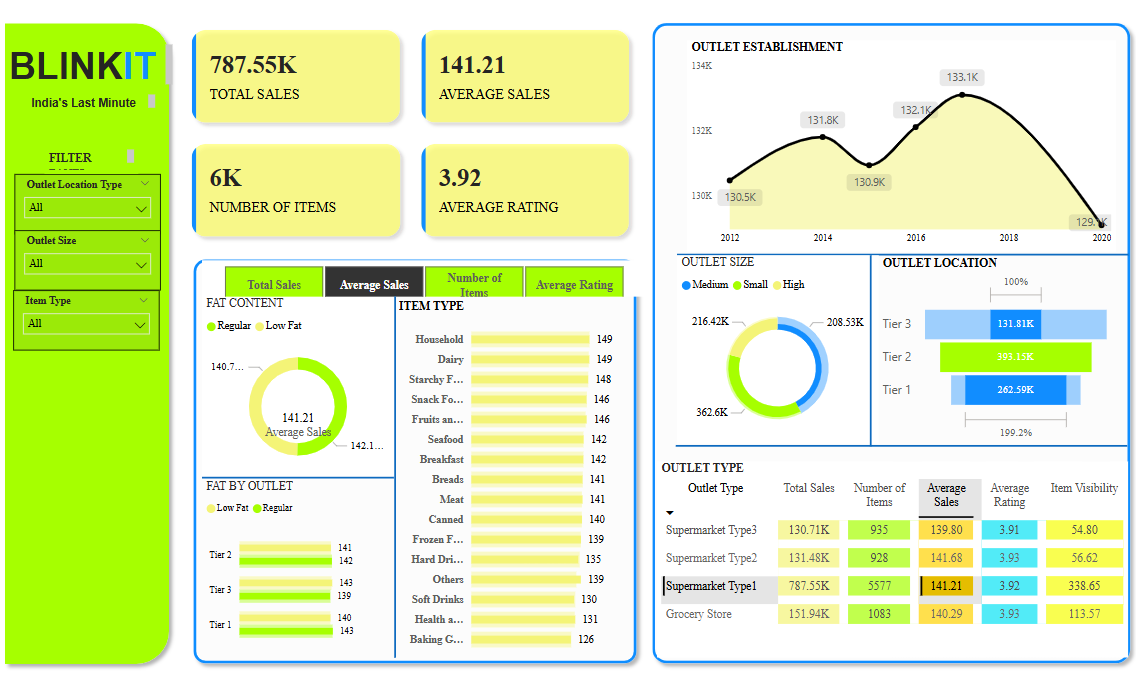

The dashboard page shown, as its layout file describes it:
{"tool":"powerbi","page":{"name":"Page 1","canvas":[1400,800],"ordinal":0},"visuals":[{"type":"shape","box":[0,24.3,205.7,750],"z":0},{"type":"textbox","box":[252.9,625.7,522.9,148.6],"z":1000},{"type":"textbox","box":[8.6,52.9,197.1,57.1],"z":2000},{"type":"textbox","box":[20,110,165.7,31.4],"z":3000},{"type":"cardVisual","fields":{"Data":["BlinkIT Grocery Data.Total Sales","BlinkIT Grocery Data.Average Sales","BlinkIT Grocery Data.Number of Items","BlinkIT Grocery Data.Average Rating"]},"box":[205.7,24.3,534.3,270],"z":4000},{"type":"shape","box":[215.7,294.3,524.3,480],"z":5000},{"type":"donutChart","title":"FAT CONTENT","fields":{"Y":["BlinkIT Grocery Data.Number of Items"],"Category":["BlinkIT Grocery Data.Item Fat Content"]},"box":[234.3,345.7,220,208.6],"z":6000},{"type":"slicer","fields":{"Values":["Metrics.Metrics"]},"box":[234.3,304.3,505.7,41.4],"z":7000},{"type":"cardVisual","fields":{"Data":["BlinkIT Grocery Data.Number of Items"]},"box":[288.6,461.4,111.4,55.7],"z":8000},{"type":"clusteredBarChart","title":"FAT BY OUTLET","fields":{"Y":["BlinkIT Grocery Data.Number of Items"],"Category":["BlinkIT Grocery Data.Outlet Location Type"],"Series":["BlinkIT Grocery Data.Item Fat Content"]},"box":[234.3,554.3,220,204.3],"z":9000},{"type":"shape","box":[234.3,517.1,220,71.4],"z":10000},{"type":"shape","box":[380,345.7,150,412.9],"z":11000},{"type":"barChart","title":"ITEM TYPE","fields":{"Y":["BlinkIT Grocery Data.Number of Items"],"Category":["BlinkIT Grocery Data.Item Type"]},"box":[454.3,348.6,298.6,412.9],"z":12000},{"type":"shape","box":[740,24.3,564.3,750],"z":13000},{"type":"lineChart","title":"OUTLET ESTABLISHMENT","fields":{"Category":["BlinkIT Grocery Data.Outlet Establishment Year"],"Y":["BlinkIT Grocery Data.Total Sales"]},"box":[788.6,52.9,490,241.4],"z":14000},{"type":"shape","box":[777.1,291.4,515.7,12.9],"z":15000},{"type":"donutChart","title":"OUTLET SIZE","fields":{"Y":["BlinkIT Grocery Data.Total Sales"],"Category":["BlinkIT Grocery Data.Outlet Size"]},"box":[777.1,298.6,230,215],"z":16000},{"type":"shape","box":[961.4,298.6,74.3,218.6],"z":17000},{"type":"funnel","title":"OUTLET LOCATION","fields":{"Y":["Sum(BlinkIT Grocery Data.Sales)"],"Category":["BlinkIT Grocery Data.Outlet Location Type"]},"box":[1007.1,300,271.4,215.7],"z":18000},{"type":"shape","box":[775.7,510,515.7,12.9],"z":19000},{"type":"pivotTable","title":"OUTLET TYPE","fields":{"Rows":["BlinkIT Grocery Data.Outlet Type"],"Values":["BlinkIT Grocery Data.Total Sales","BlinkIT Grocery Data.Number of Items","BlinkIT Grocery Data.Average Sales","BlinkIT Grocery Data.Average Rating","Sum(BlinkIT Grocery Data.Item Visibility)"]},"box":[754.3,534.3,538.6,224.3],"z":20000},{"type":"slicer","fields":{"Values":["BlinkIT Grocery Data.Outlet Location Type"]},"box":[20,205.7,167.1,68.6],"z":20001},{"type":"slicer","fields":{"Values":["BlinkIT Grocery Data.Outlet Size"]},"box":[20,270,167.1,68.6],"z":20002},{"type":"slicer","fields":{"Values":["BlinkIT Grocery Data.Item Type"]},"box":[18.6,338.6,167.1,68.6],"z":20003},{"type":"textbox","box":[54.3,172.9,107.1,32.9],"z":20004}]}

Visuals, with their boxes in screenshot pixels (x1, y1, x2, y2):
shape: [left=18, top=35, right=188, bottom=657]
textbox: [left=228, top=534, right=661, bottom=657]
textbox: [left=25, top=59, right=188, bottom=106]
textbox: [left=34, top=106, right=172, bottom=132]
cardVisual - BlinkIT Grocery Data.Total Sales x BlinkIT Grocery Data.Average Sales: [left=188, top=35, right=632, bottom=259]
shape: [left=197, top=259, right=632, bottom=657]
"FAT CONTENT" donutChart: [left=212, top=302, right=395, bottom=475]
slicer - Metrics.Metrics: [left=212, top=267, right=632, bottom=302]
cardVisual - BlinkIT Grocery Data.Number of Items: [left=257, top=398, right=350, bottom=444]
"FAT BY OUTLET" clusteredBarChart: [left=212, top=475, right=395, bottom=644]
shape: [left=212, top=444, right=395, bottom=503]
shape: [left=333, top=302, right=457, bottom=644]
"ITEM TYPE" barChart: [left=395, top=304, right=642, bottom=647]
shape: [left=632, top=35, right=1100, bottom=657]
"OUTLET ESTABLISHMENT" lineChart: [left=672, top=59, right=1079, bottom=259]
shape: [left=662, top=257, right=1090, bottom=267]
"OUTLET SIZE" donutChart: [left=662, top=263, right=853, bottom=441]
shape: [left=815, top=263, right=877, bottom=444]
"OUTLET LOCATION" funnel: [left=853, top=264, right=1078, bottom=443]
shape: [left=661, top=438, right=1089, bottom=449]
"OUTLET TYPE" pivotTable: [left=644, top=458, right=1090, bottom=644]
slicer - BlinkIT Grocery Data.Outlet Location Type: [left=34, top=185, right=173, bottom=242]
slicer - BlinkIT Grocery Data.Outlet Size: [left=34, top=239, right=173, bottom=296]
slicer - BlinkIT Grocery Data.Item Type: [left=33, top=296, right=172, bottom=353]
textbox: [left=63, top=158, right=152, bottom=186]
